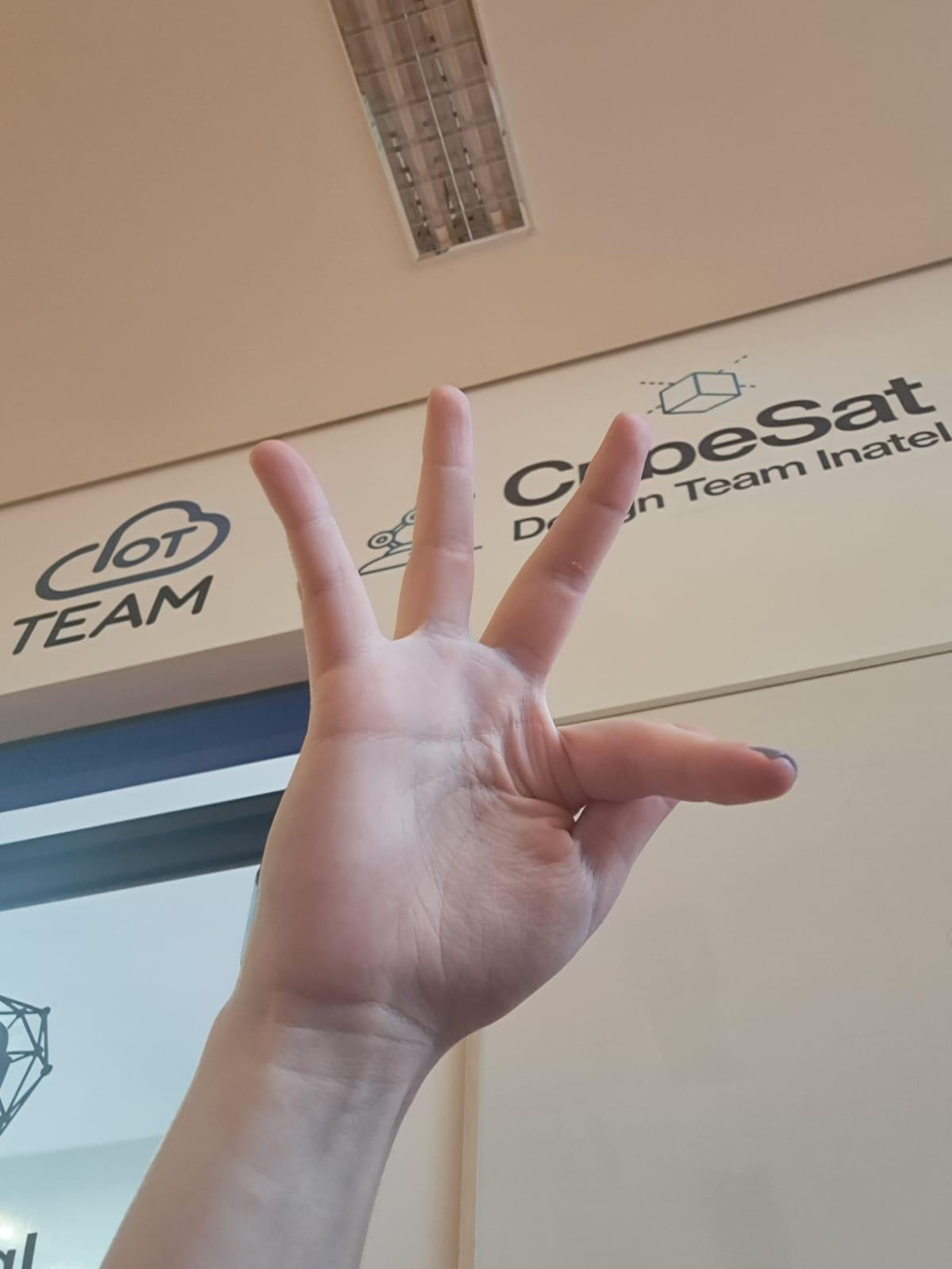F: (198, 361, 809, 1055)
